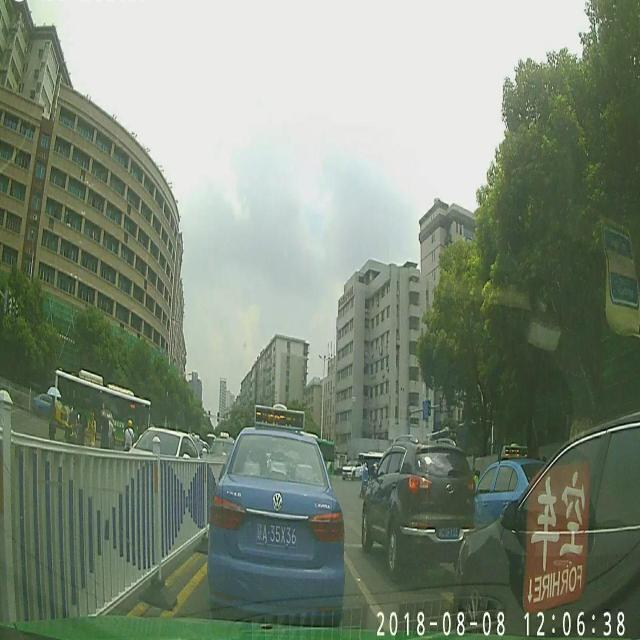car: (208, 420, 345, 614), (360, 442, 477, 566)
